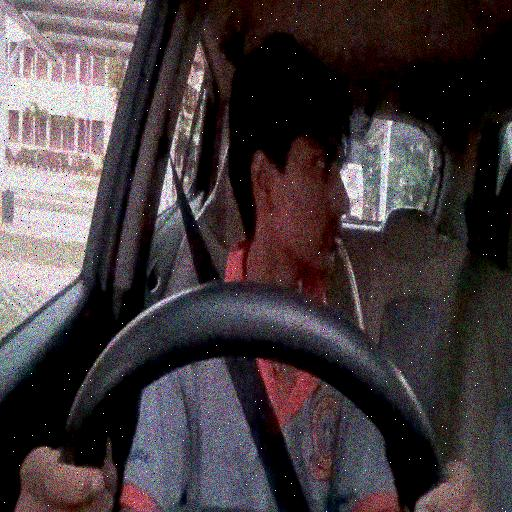Reaching_behind: (62, 33, 412, 496)
